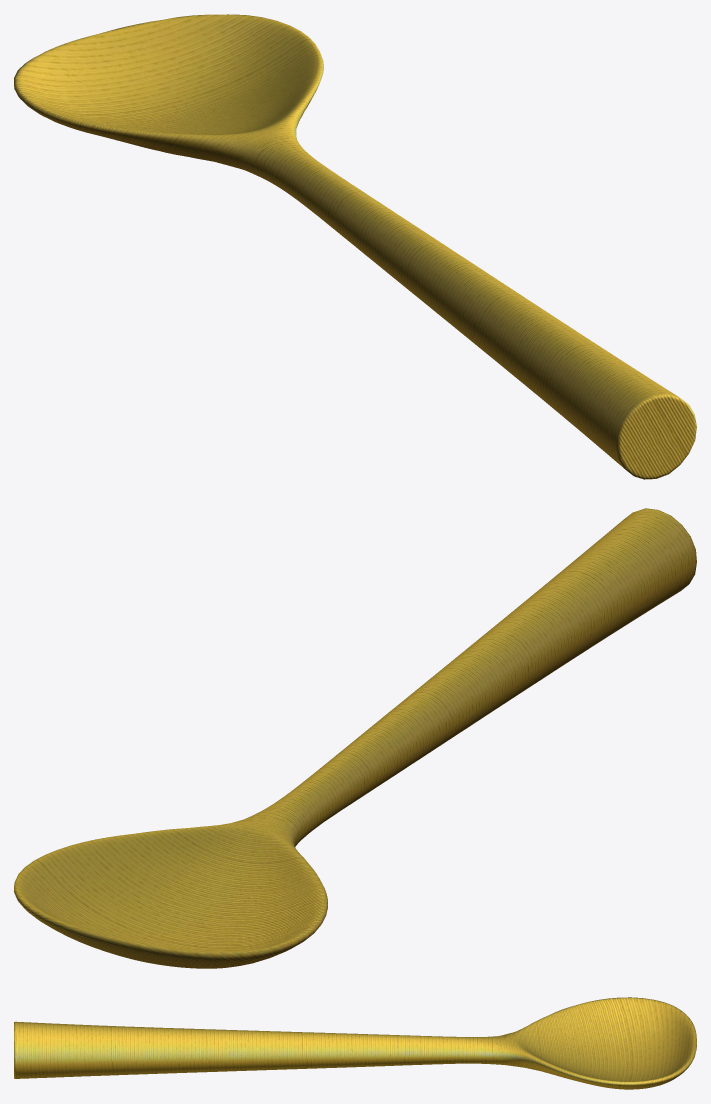
File: 19_Triangle.glb
3 views of the same model, one above another, from view 1: azimuth 30°, elevation 25°; view 2: azimuth 150°, elevation 25°; view 3: azimuth 270°, elevation 25° (orthographic). The views are drawn at different scales.
Parts seen in each view (by area): view 1: 19_Triangle; view 2: 19_Triangle; view 3: 19_Triangle.
Boxes of the visible parts, x1,y1,x2,y2 form: 19_Triangle: [14, 14, 696, 479]; 19_Triangle: [14, 508, 696, 968]; 19_Triangle: [14, 997, 696, 1089].
Bounding box in the file's own units: 0.0632 × 0.018 × 0.2129.
Materials: 1 (1 with a texture image).
